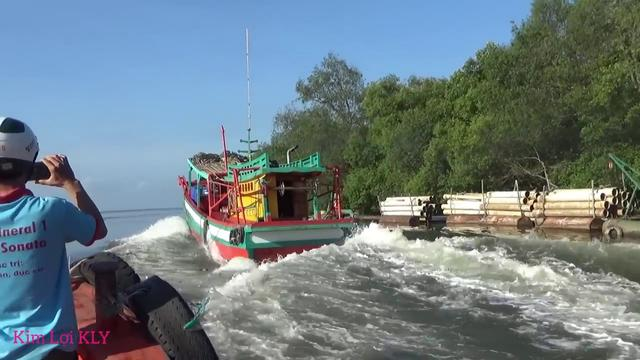Ship: (173, 143, 360, 268)
